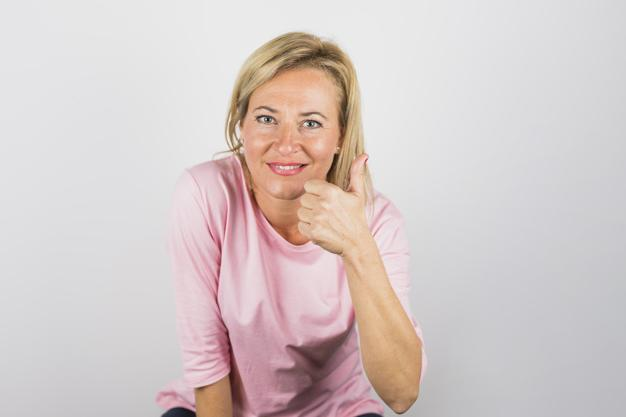thumbsup: (297, 153, 369, 238)
